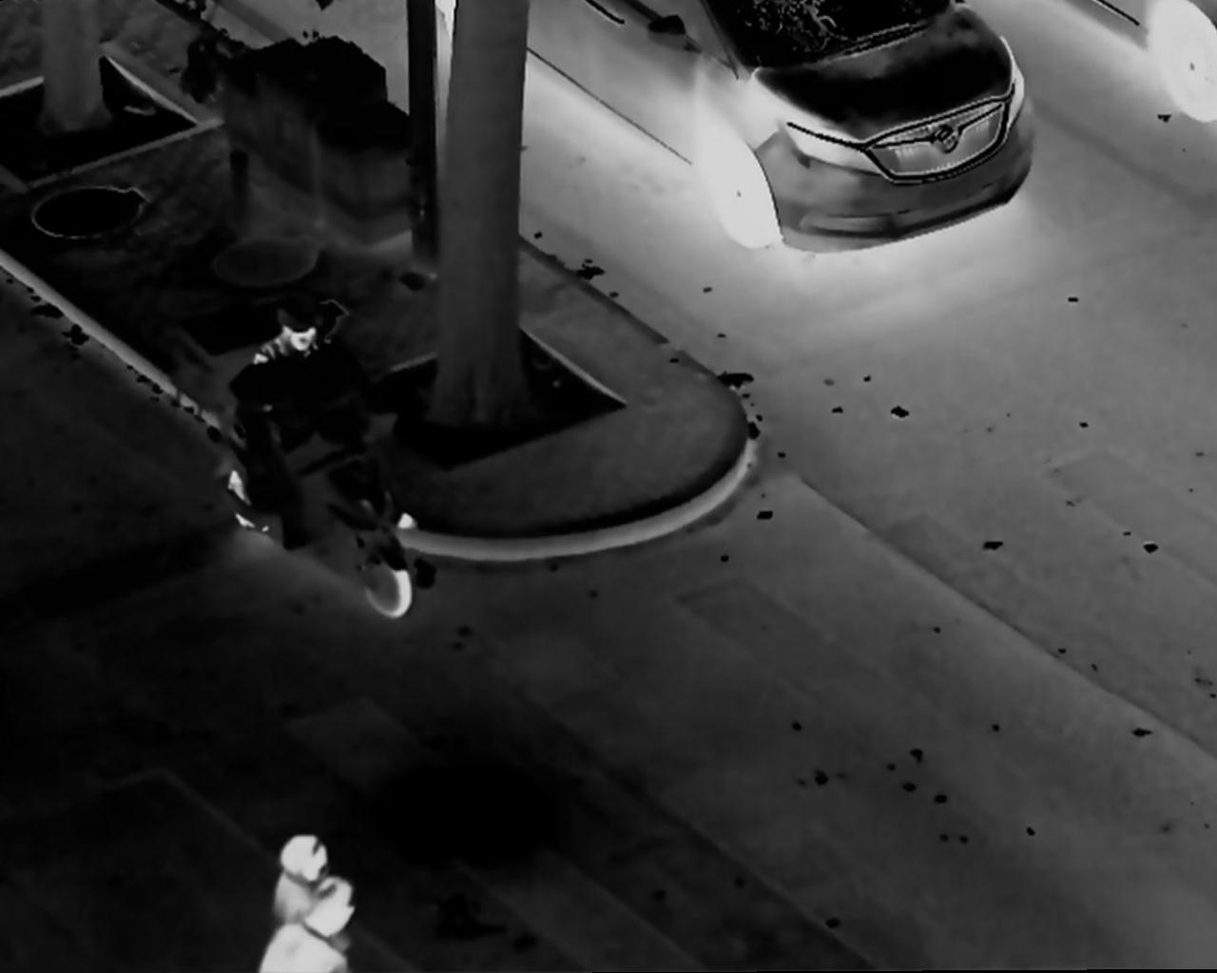person: (231, 304, 338, 531), (264, 867, 369, 973), (266, 824, 326, 925)
